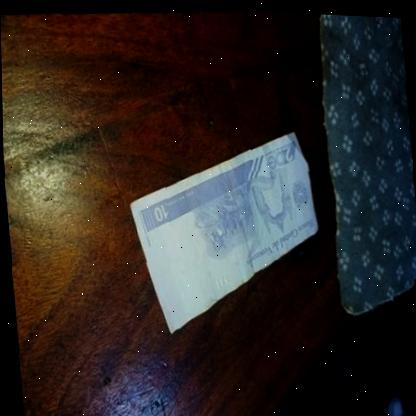ten-back-vef: (122, 121, 327, 343)
